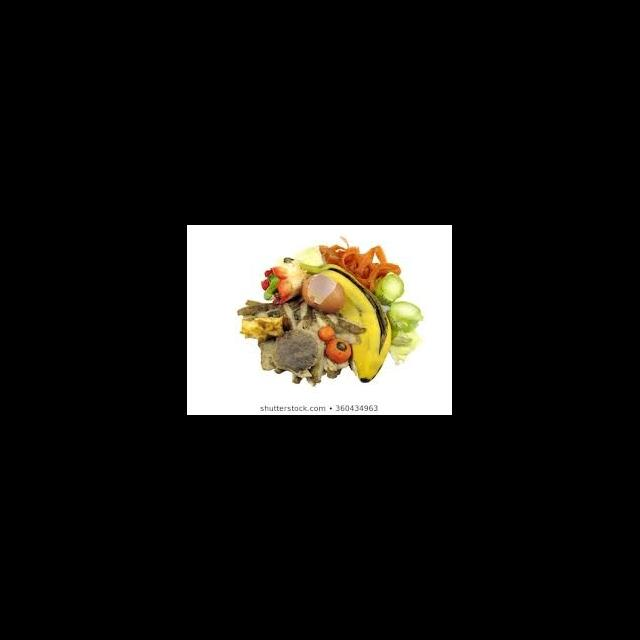food_waste: (298, 247, 392, 387), (314, 239, 422, 292), (247, 321, 324, 385), (254, 255, 316, 305), (294, 271, 354, 317), (368, 267, 414, 310), (384, 295, 428, 336), (322, 336, 356, 365)
